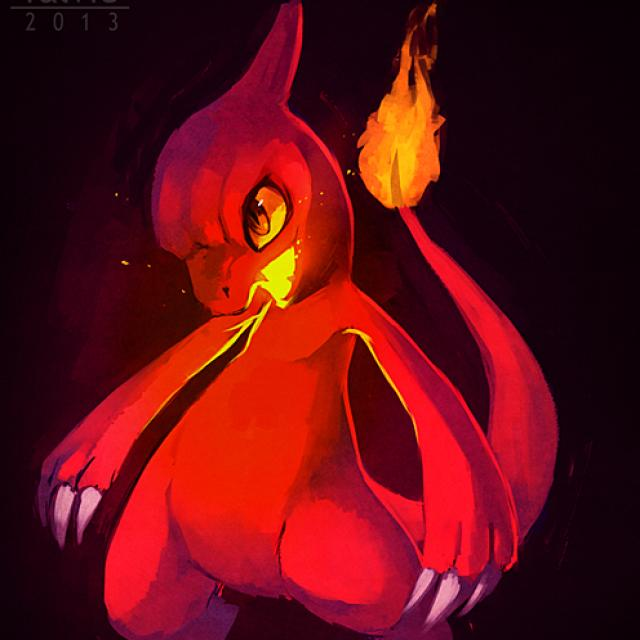Charmeleon: (160, 45, 528, 609)
